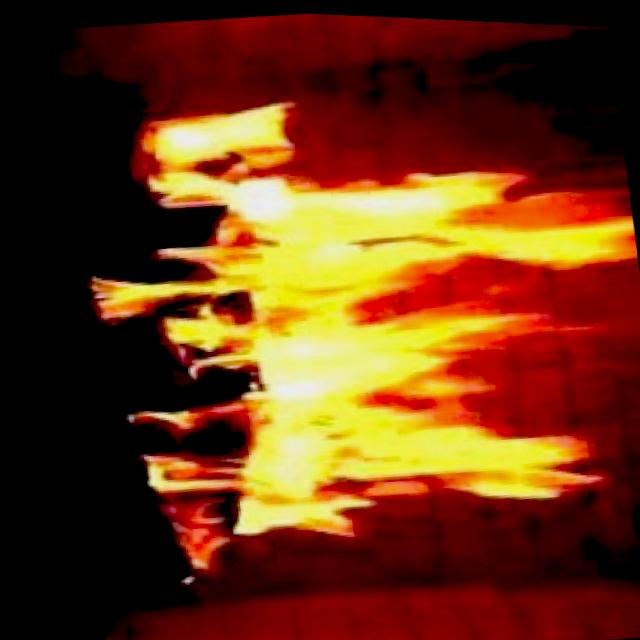helmet: (56, 50, 640, 602)
